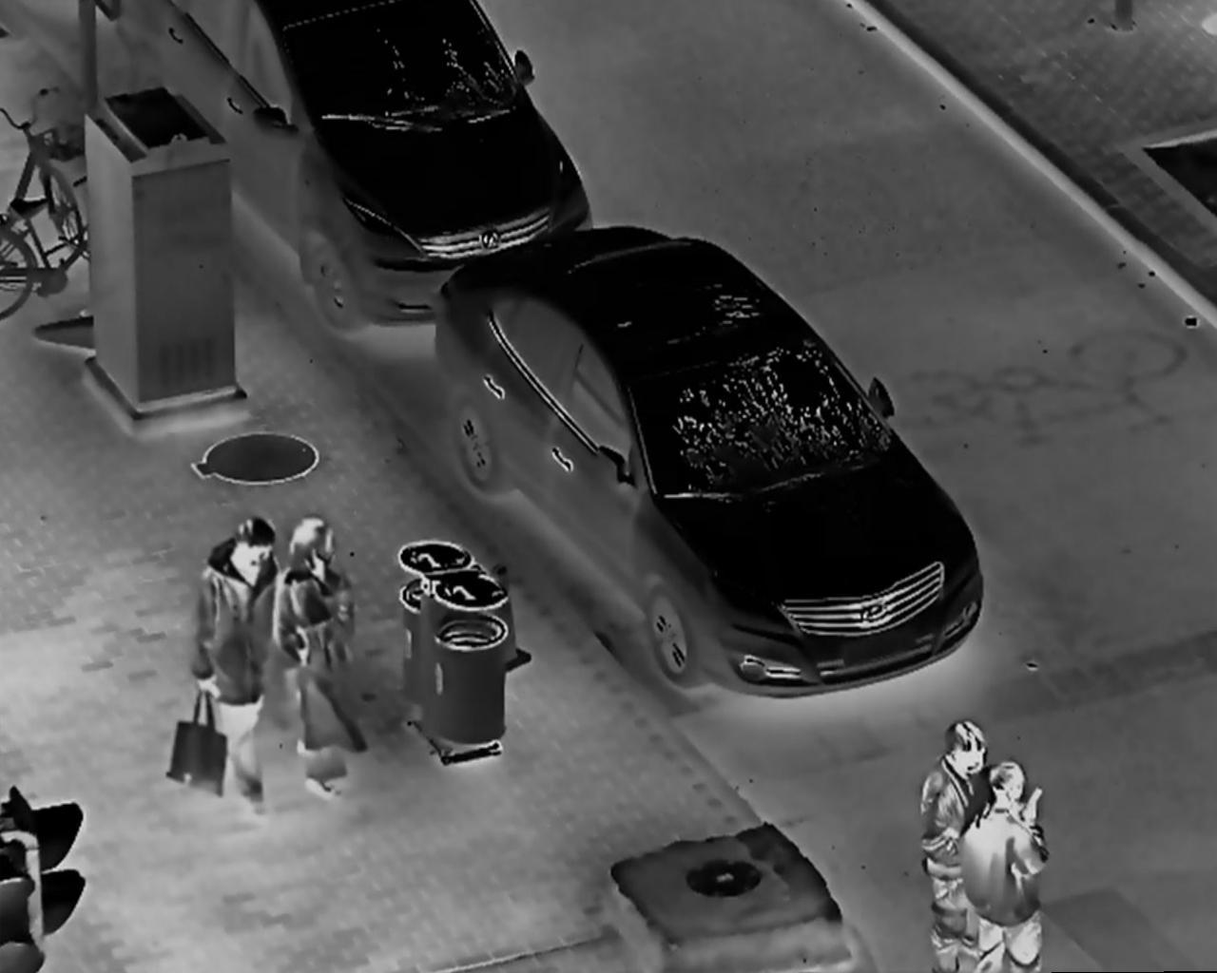person: (186, 512, 278, 817), (273, 512, 366, 805), (956, 756, 1054, 973), (917, 718, 990, 973)
